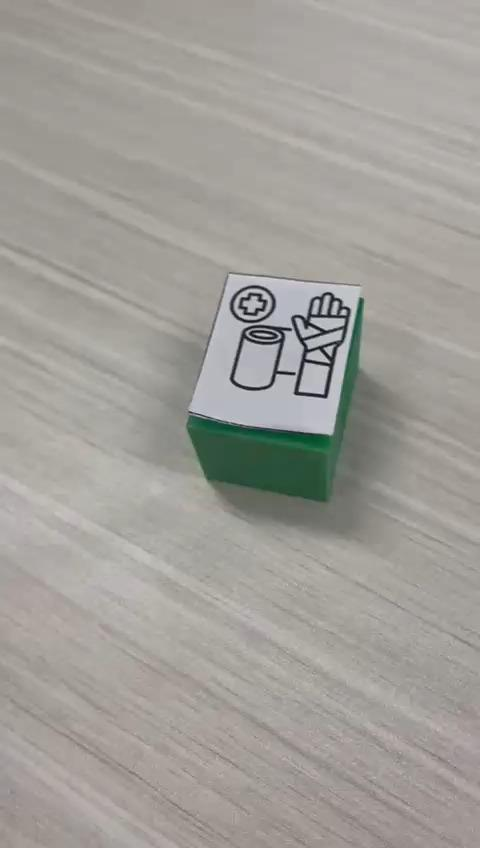Bandages: (187, 272, 365, 501)
